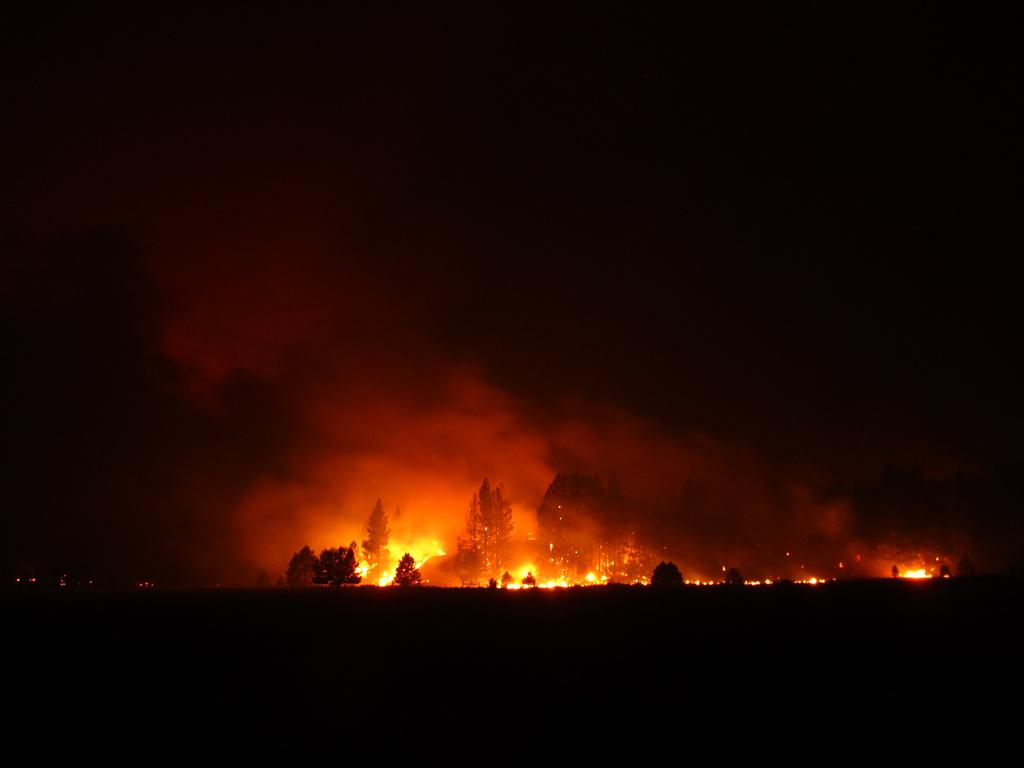fire: (368, 528, 606, 592)
